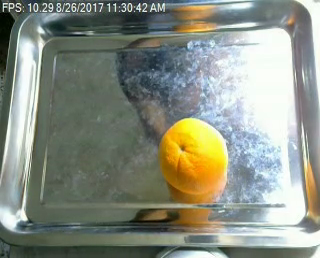Orange: (159, 117, 227, 195)
